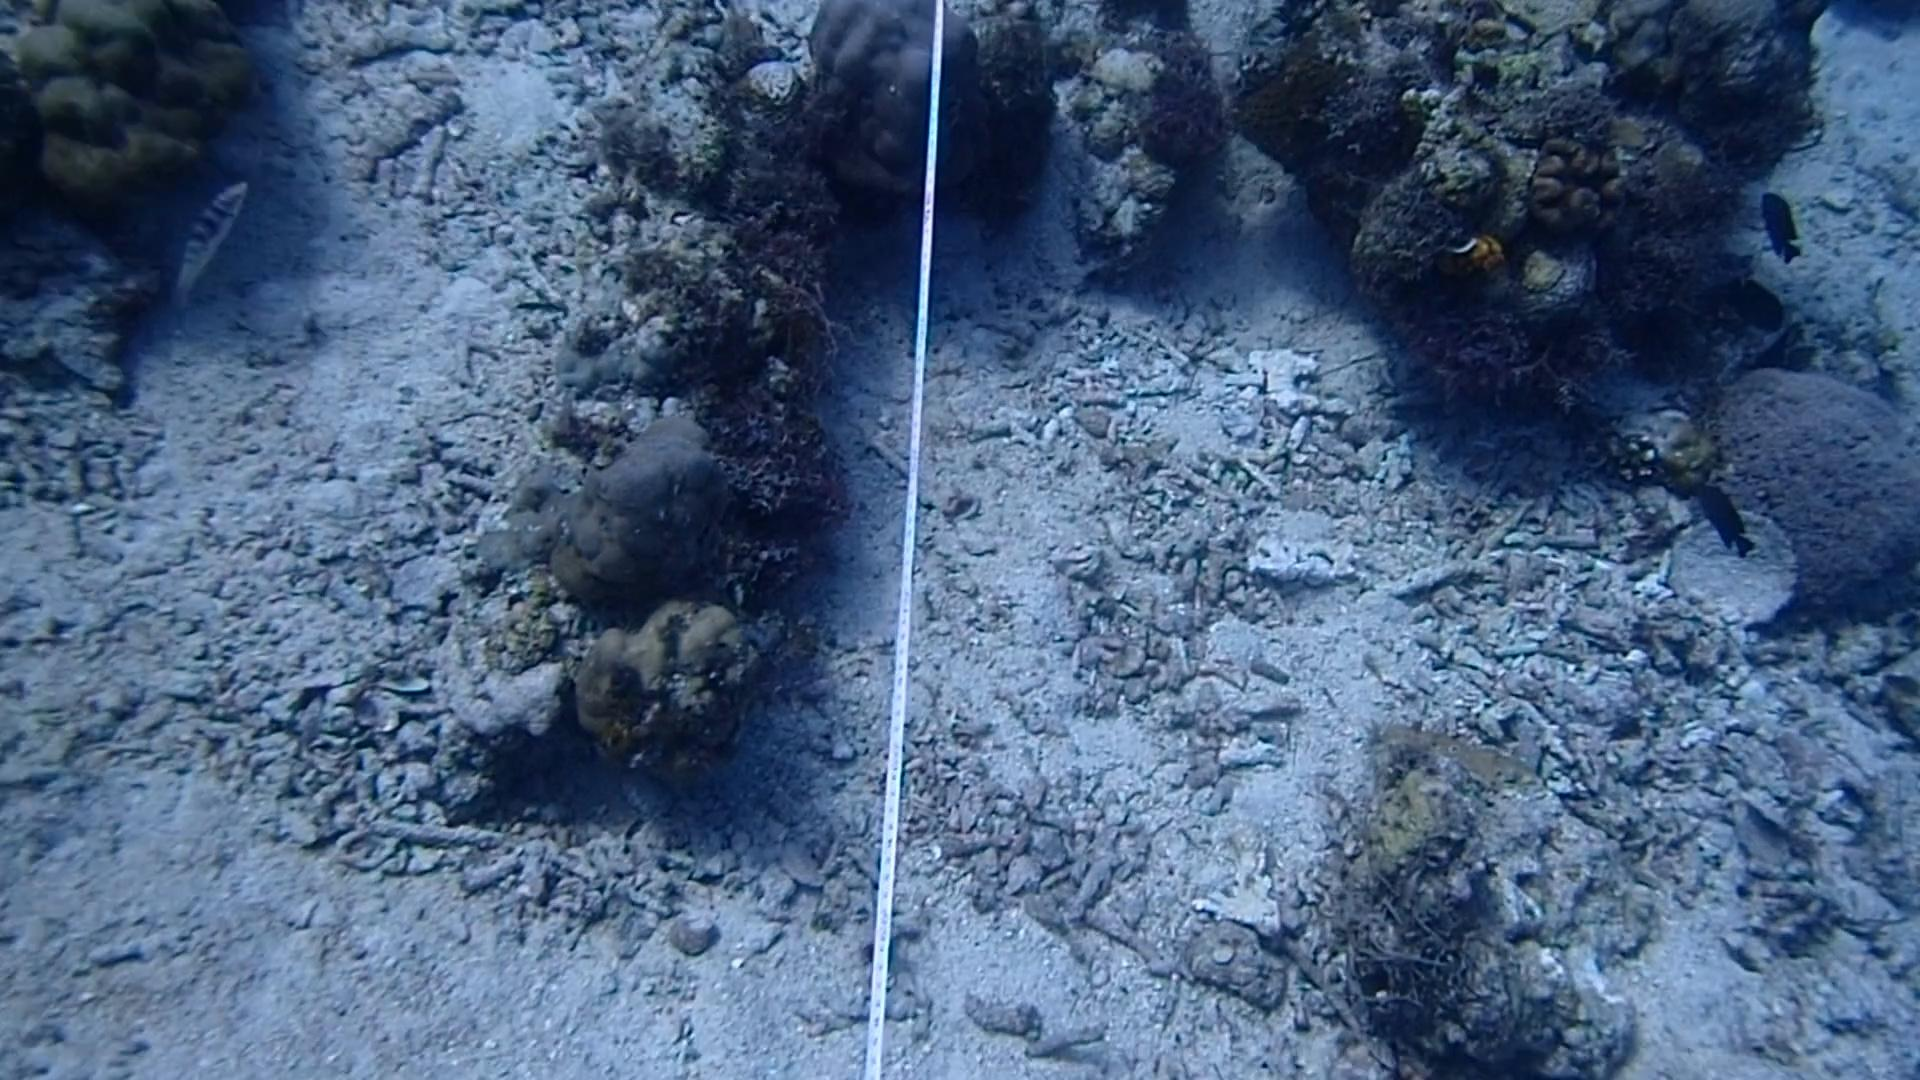Dark Fish: (1746, 178, 1828, 277), (1709, 260, 1796, 347), (1695, 472, 1758, 564)
Light Fish w Back Stripes: (154, 170, 258, 301)
